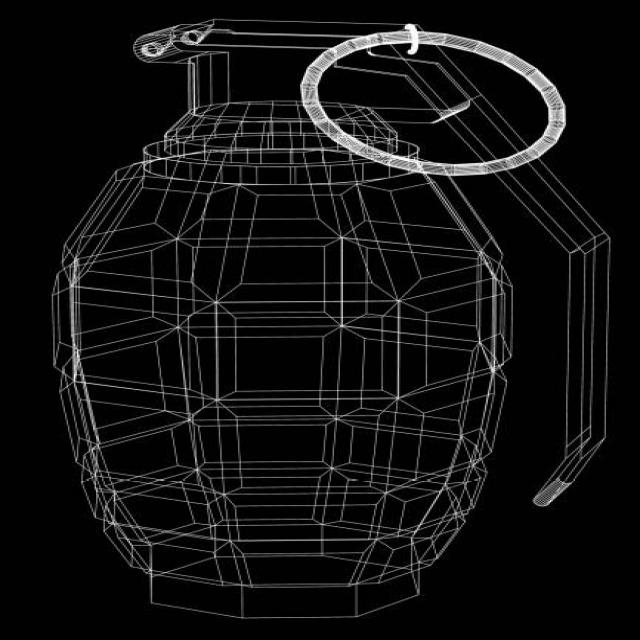grenade: (40, 12, 614, 624)
